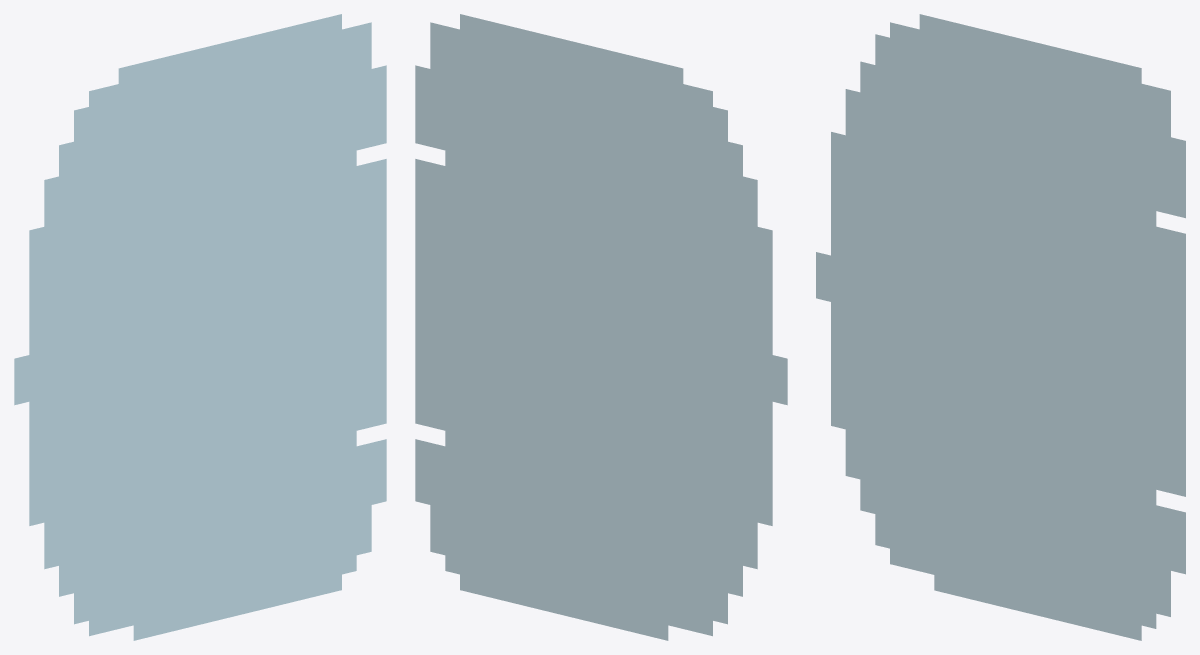
The model's file is wp_water_233.obj.
The picture shows the model from 3 angles, left to right: view 1: azimuth 30°, elevation 25°; view 2: azimuth 150°, elevation 25°; view 3: azimuth 330°, elevation 25°; orthographic projection.
Size of the model in its own units: 0.375 by 0.555 by 0.
Materials: 1 (1 with a texture image).
